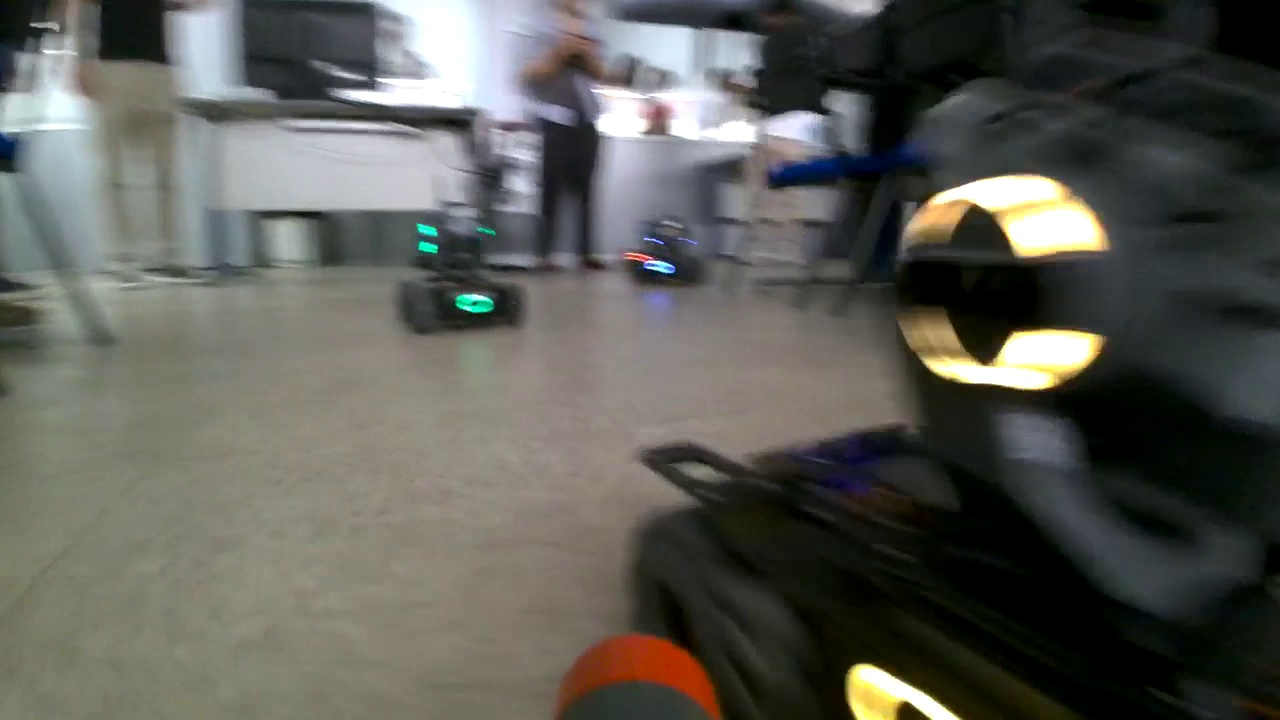robot: (643, 71, 1280, 720), (397, 177, 527, 334), (644, 220, 700, 280), (626, 222, 673, 271)
